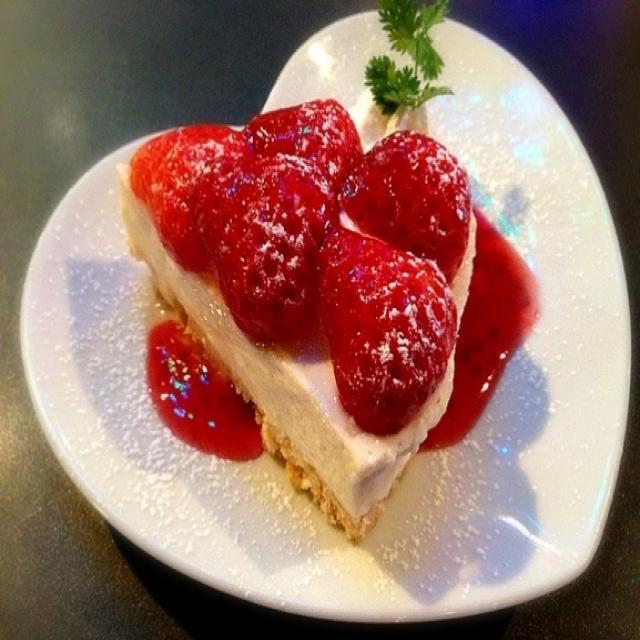Rare cheese cake: (91, 71, 565, 531)
